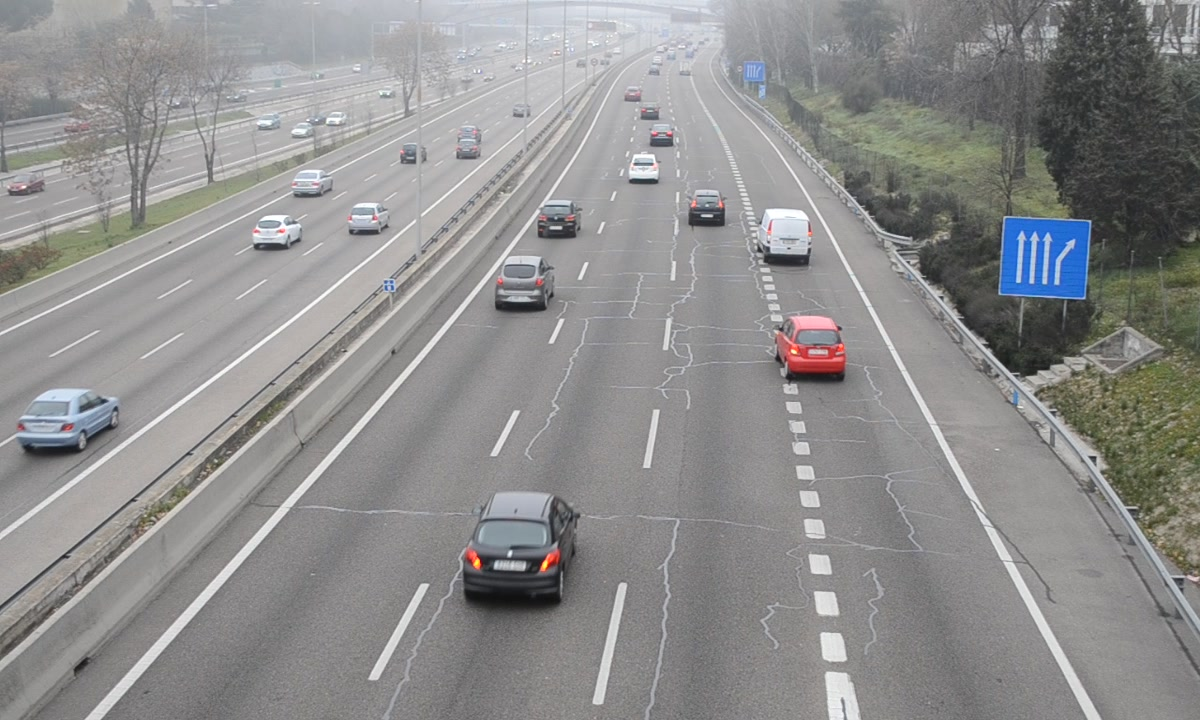car: (461, 493, 579, 600), (778, 315, 848, 377), (496, 256, 555, 308), (536, 201, 582, 240), (688, 190, 728, 227), (627, 150, 662, 183), (648, 121, 675, 146)
van: (759, 207, 814, 261)
